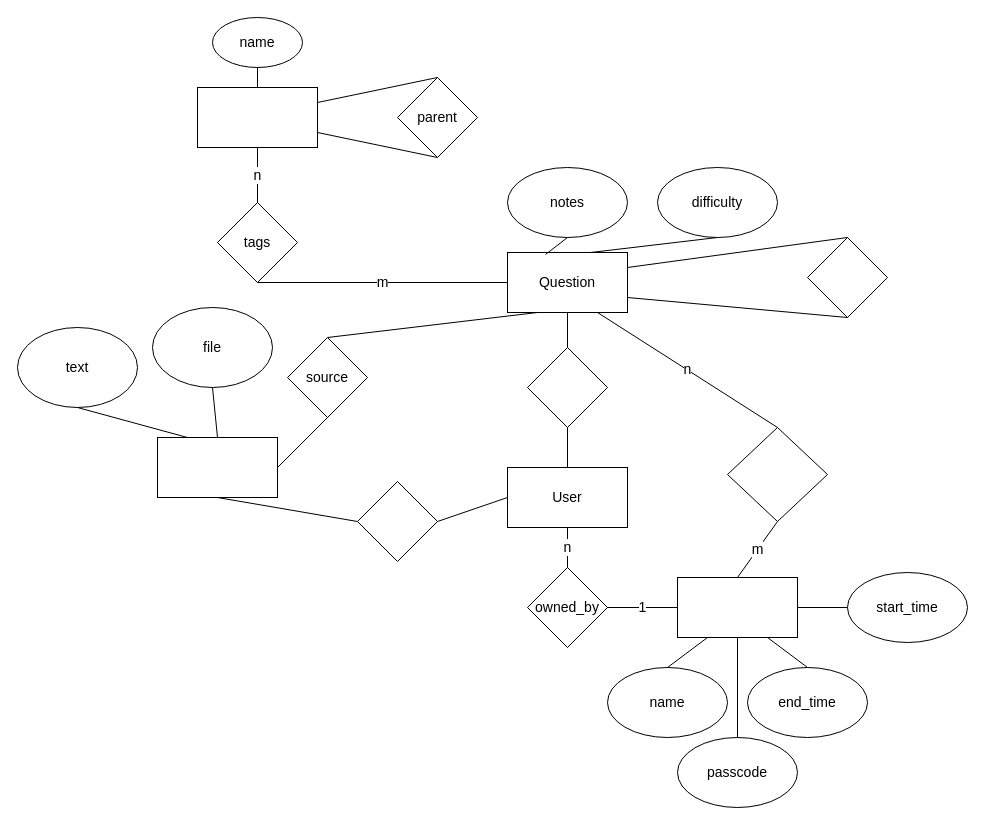
The diagram is 985 pixels wide and 825 high, and some of its shapes have lost their labels. Each missing label, with the centre of its shape:
creator: [567,387]
has_questions: [777,474]
owner: [397,521]
Question Paper: [217,467]
Question Set: [737,607]
similar_to: [847,277]
Tag: [257,117]
